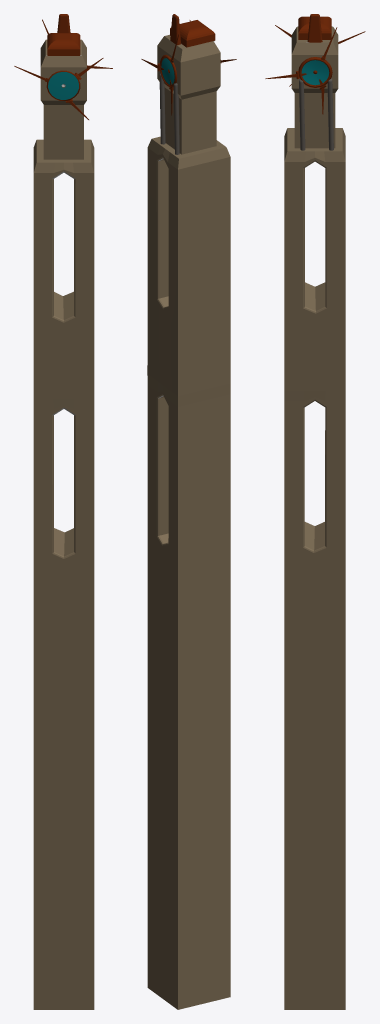
File: ClockTower.fbx
3 views of the same model, side by side, from view 1: azimuth 90°, elevation 25°; view 2: azimuth 210°, elevation 25°; view 3: azimuth 270°, elevation 25° (orthographic).
Parts seen in each view (by area): view 1: ClockTower1; view 2: ClockTower1; view 3: ClockTower1.
Boxes of the visible parts, x1=… form: ClockTower1: x1=14, y1=14, x2=112, y2=1009; ClockTower1: x1=141, y1=14, x2=236, y2=1009; ClockTower1: x1=265, y1=14, x2=365, y2=1009.
Size of the model in its own units: 14.93 by 265 by 24.3.
